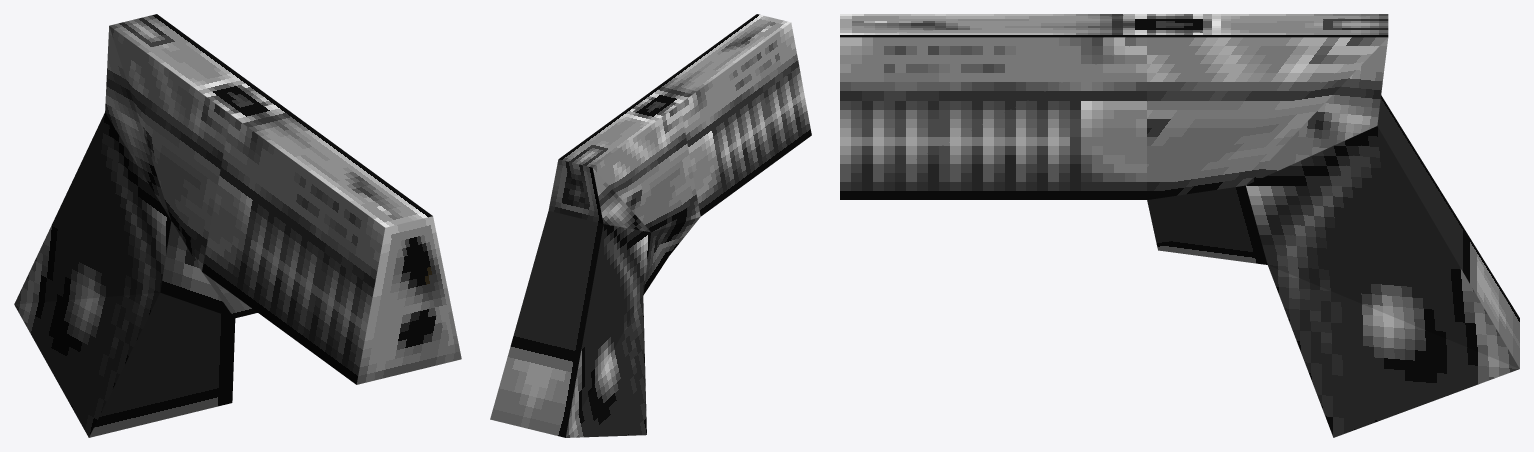
3 renders of one model, left to right at view 1: azimuth 30°, elevation 25°; view 2: azimuth 150°, elevation 25°; view 3: azimuth 270°, elevation 25°, orthographic. The views are drawn at different scales.
Visible parts, largest first — view 1: prim143-gun; view 2: prim143-gun; view 3: prim143-gun.
Part boxes in pixels (left/top/right/bottom): prim143-gun: left=14, top=14, right=461, bottom=437; prim143-gun: left=490, top=14, right=811, bottom=437; prim143-gun: left=840, top=14, right=1519, bottom=437.
Bounding box in the file's own units: 15 × 38 × 62.
Materials: 1 (1 with a texture image).
